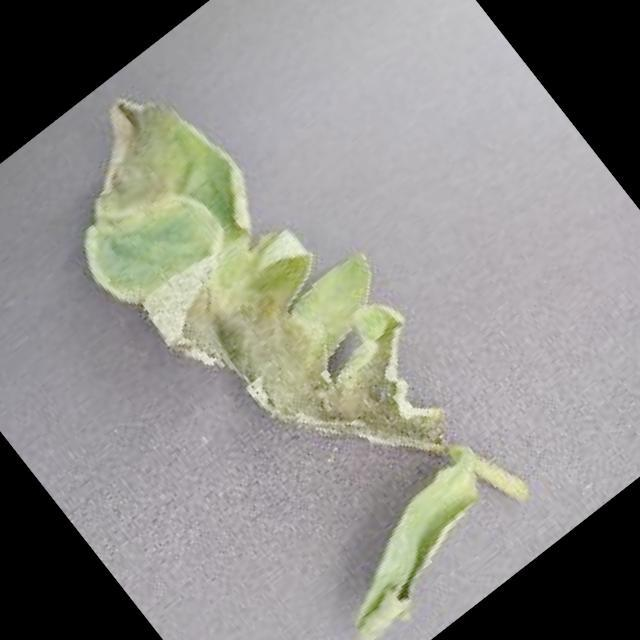Tomato late blight leaf: (18, 39, 492, 557), (308, 460, 513, 640)
